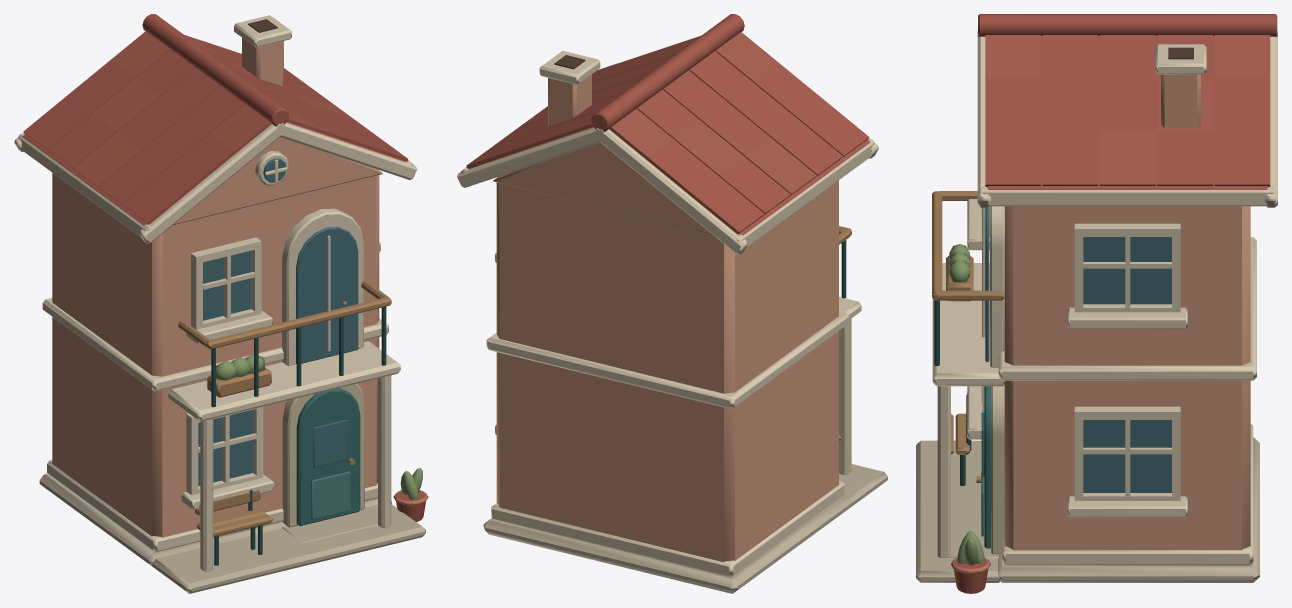
The model's file is house_level_3.glb.
The picture shows the model from 3 angles, left to right: view 1: azimuth 30°, elevation 25°; view 2: azimuth 150°, elevation 25°; view 3: azimuth 270°, elevation 25°; orthographic projection. The views are drawn at different scales.
Visible parts, largest first — view 1: house_level_3_runtime; view 2: house_level_3_runtime; view 3: house_level_3_runtime.
Boxes of the visible parts, left/top/right/bottom form: house_level_3_runtime: left=14, top=14, right=428, bottom=593; house_level_3_runtime: left=457, top=14, right=887, bottom=593; house_level_3_runtime: left=916, top=14, right=1277, bottom=593.
Size of the model in its own units: 3.61 by 5.43 by 3.53.
